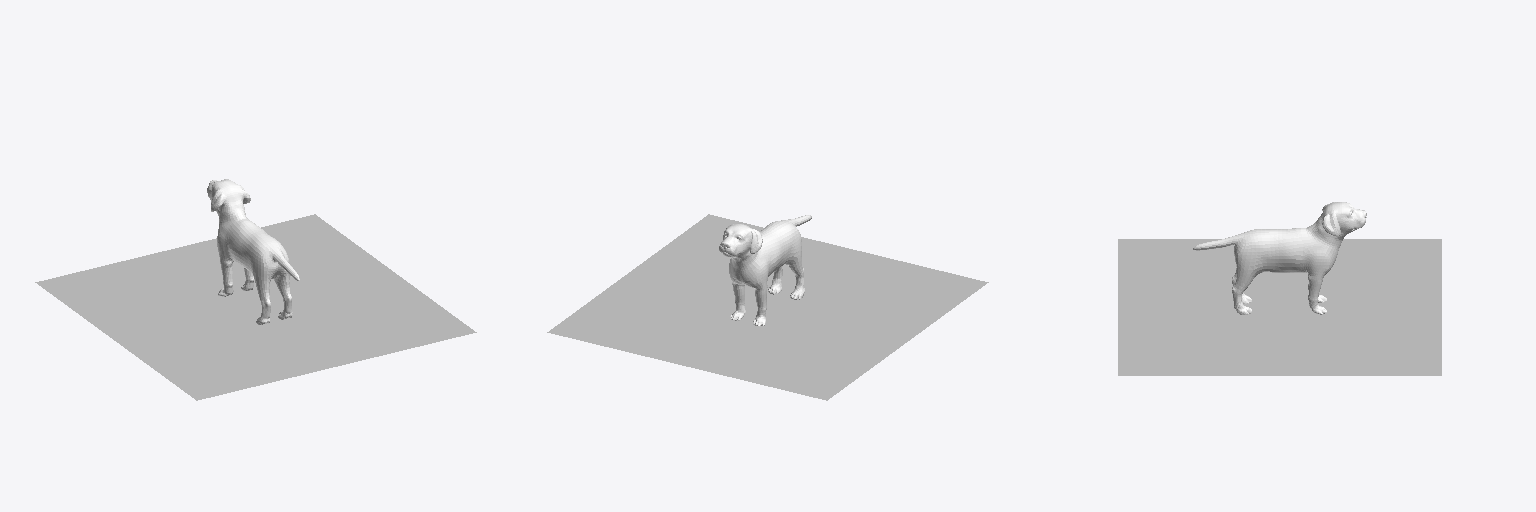
Rendered from dog.obj.
The picture shows the model from 3 angles: view 1: azimuth 30°, elevation 25°; view 2: azimuth 150°, elevation 25°; view 3: azimuth 270°, elevation 25°; orthographic projection.
Visible parts, largest first — view 1: Plane, 12228_Dog_v1_L2; view 2: Plane, 12228_Dog_v1_L2; view 3: Plane, 12228_Dog_v1_L2.
Part boxes in pixels (x1,y1,x2,y2): Plane: (35,214,476,400); 12228_Dog_v1_L2: (207,179,299,325); Plane: (547,214,988,400); 12228_Dog_v1_L2: (719,215,811,326); Plane: (1118,239,1441,375); 12228_Dog_v1_L2: (1193,202,1366,314).
Bounding box in the file's own units: 10 × 3.55 × 10.